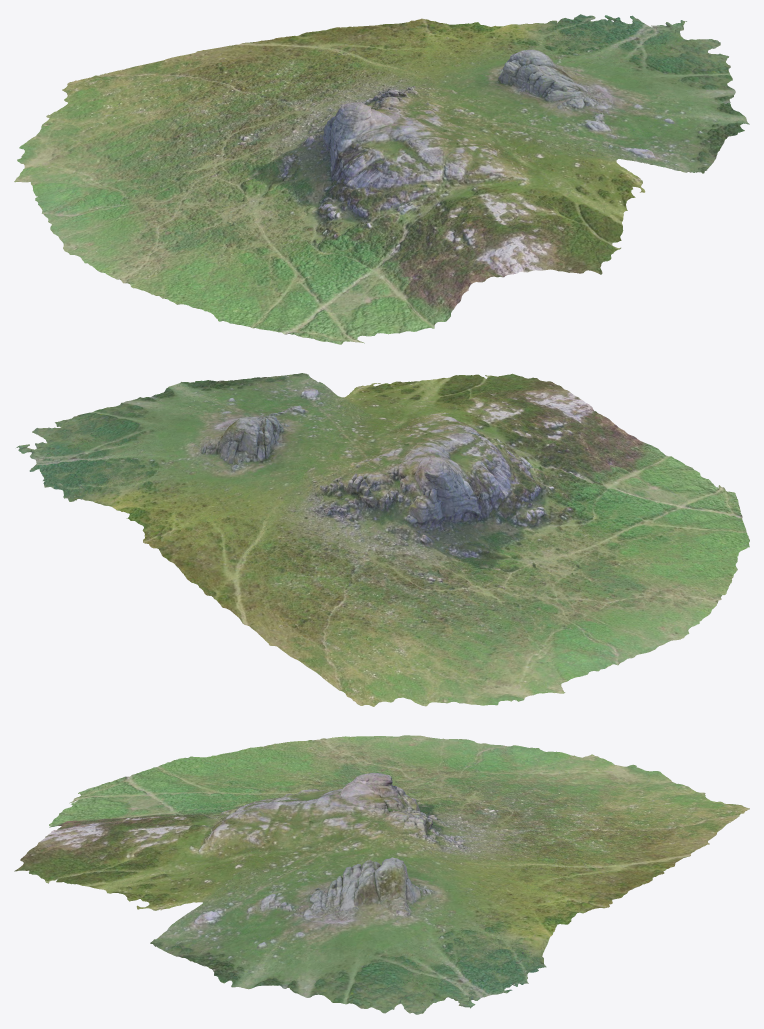
Rendered from terrain.glb.
3 renders of one model, top to bottom at view 1: azimuth 30°, elevation 25°; view 2: azimuth 150°, elevation 25°; view 3: azimuth 270°, elevation 25°, orthographic. The views are drawn at different scales.
Visible parts, largest first — view 1: mesh_out_node_texture_material_0; view 2: mesh_out_node_texture_material_0; view 3: mesh_out_node_texture_material_0.
Boxes of the visible parts, left/top/right/bottom form: mesh_out_node_texture_material_0: left=14, top=14, right=749, bottom=344; mesh_out_node_texture_material_0: left=16, top=373, right=749, bottom=706; mesh_out_node_texture_material_0: left=14, top=735, right=749, bottom=1014.
Size of the model in its own units: 490 by 72.27 by 461.
Materials: 1 (1 with a texture image).
